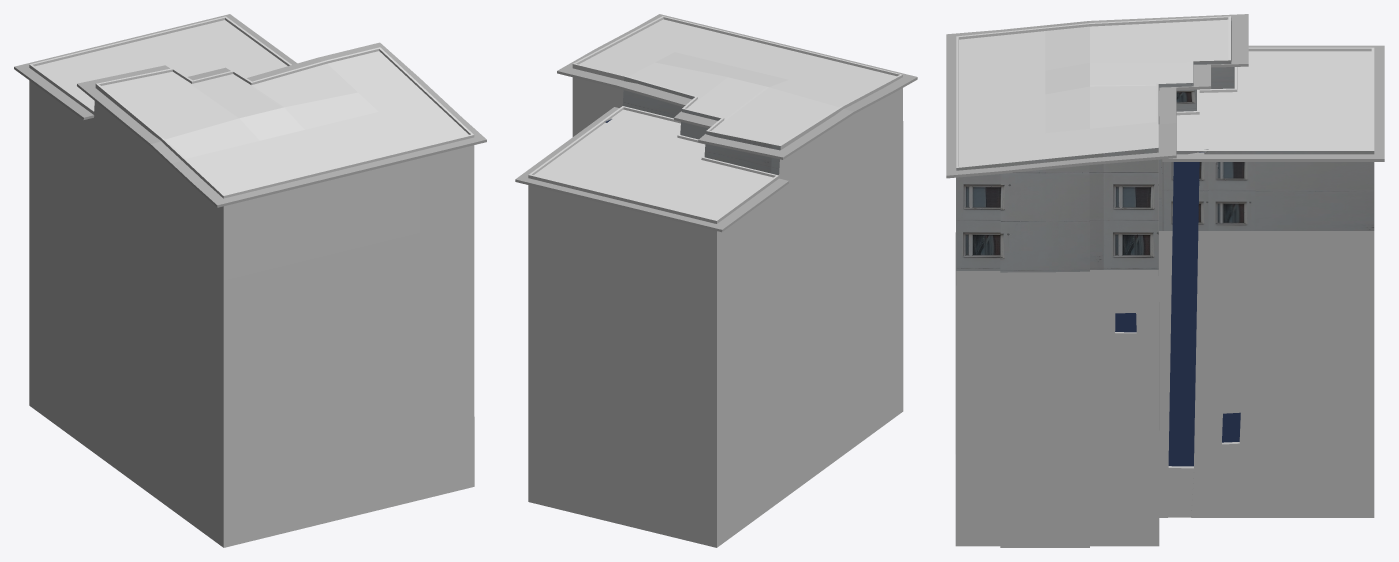
Rendered from haapalinna_entinen_koti_bland.fbx.
3 renders of one model, left to right at view 1: azimuth 30°, elevation 25°; view 2: azimuth 150°, elevation 25°; view 3: azimuth 270°, elevation 25°, orthographic. The views are drawn at different scales.
Visible parts, largest first — view 1: Cube; view 2: Cube; view 3: Cube.
Part boxes in pixels (bbox=[...]): Cube: bbox=[14, 14, 486, 547]; Cube: bbox=[515, 14, 917, 547]; Cube: bbox=[946, 14, 1384, 547].
Size of the model in its own units: 1496 by 1965 by 1959.
